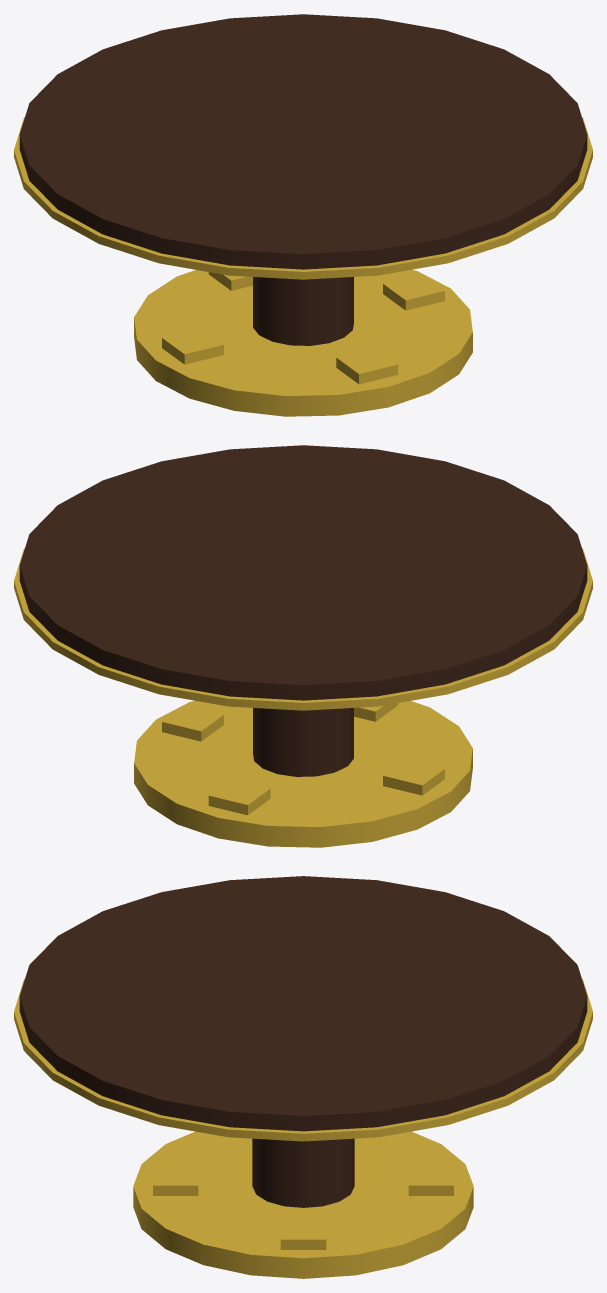
Rendered from HotelLobby_CenterTable.obj.
3 renders of one model, top to bottom at view 1: azimuth 30°, elevation 25°; view 2: azimuth 150°, elevation 25°; view 3: azimuth 270°, elevation 25°, orthographic.
Size of the model in its own units: 2.04 by 0.82 by 2.04.
